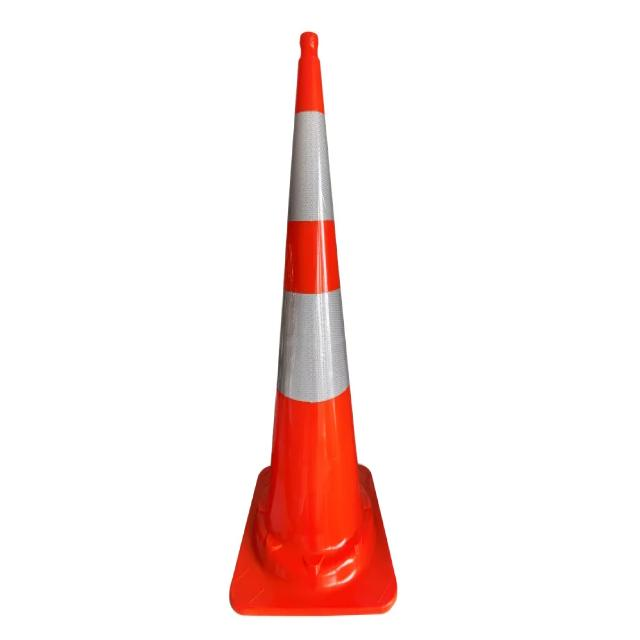Traffic Cone: (184, 5, 439, 640)
